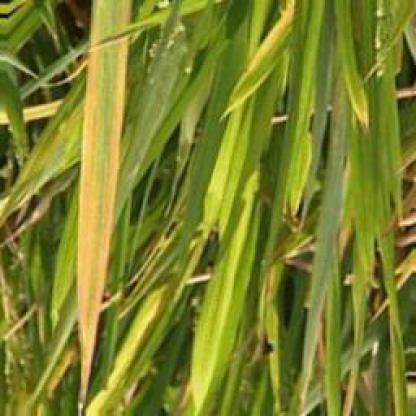Tungro: (64, 3, 141, 409), (185, 108, 284, 401), (220, 3, 308, 122)
